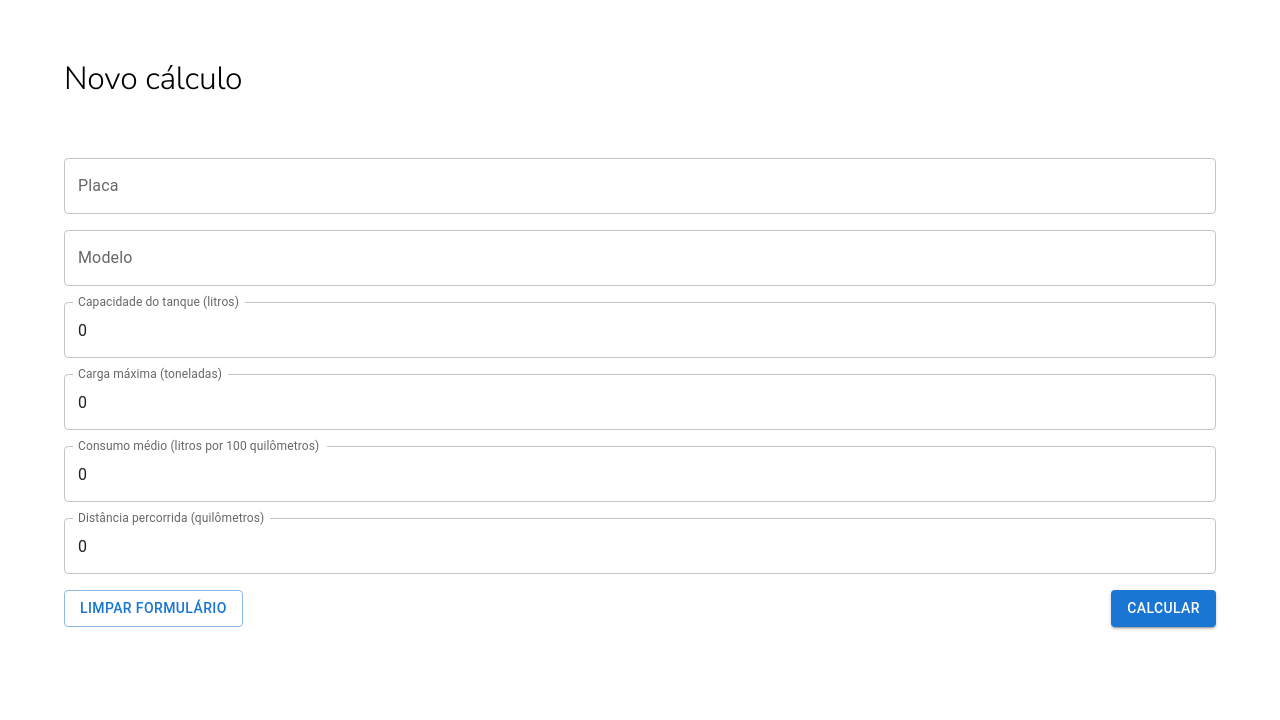
Test: Main.tsx › should display errors when needed submitting with empty required fields or number fields are set to 0/when the user clicks on the button without modifying the f
Click the button "Calcular": (1164, 609) [1111,590,1216,627]
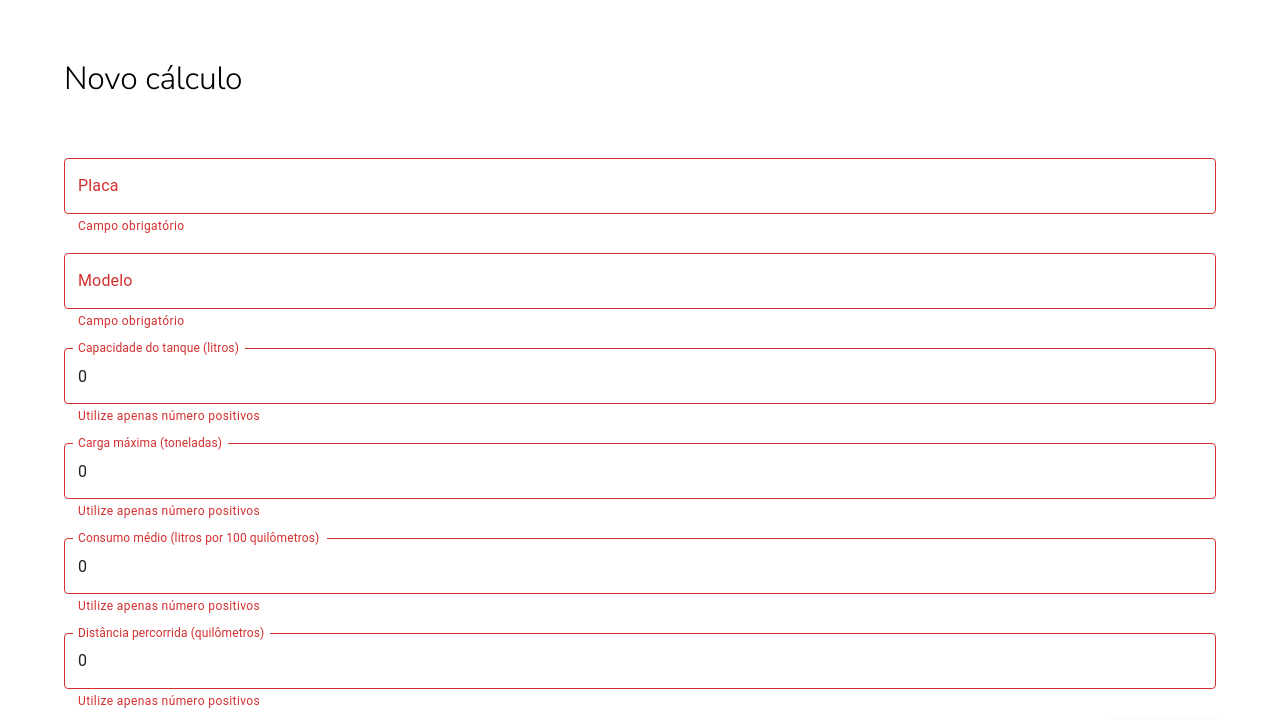
Expected: the text "Utilize apenas número positivos" is shown 4 times, [78,409,260,423]; [78,504,260,518]; [78,599,260,613]; [78,694,260,708]
Expected: the text "Campo obrigatório" is shown 2 times, [78,219,184,233]; [78,314,184,328]
